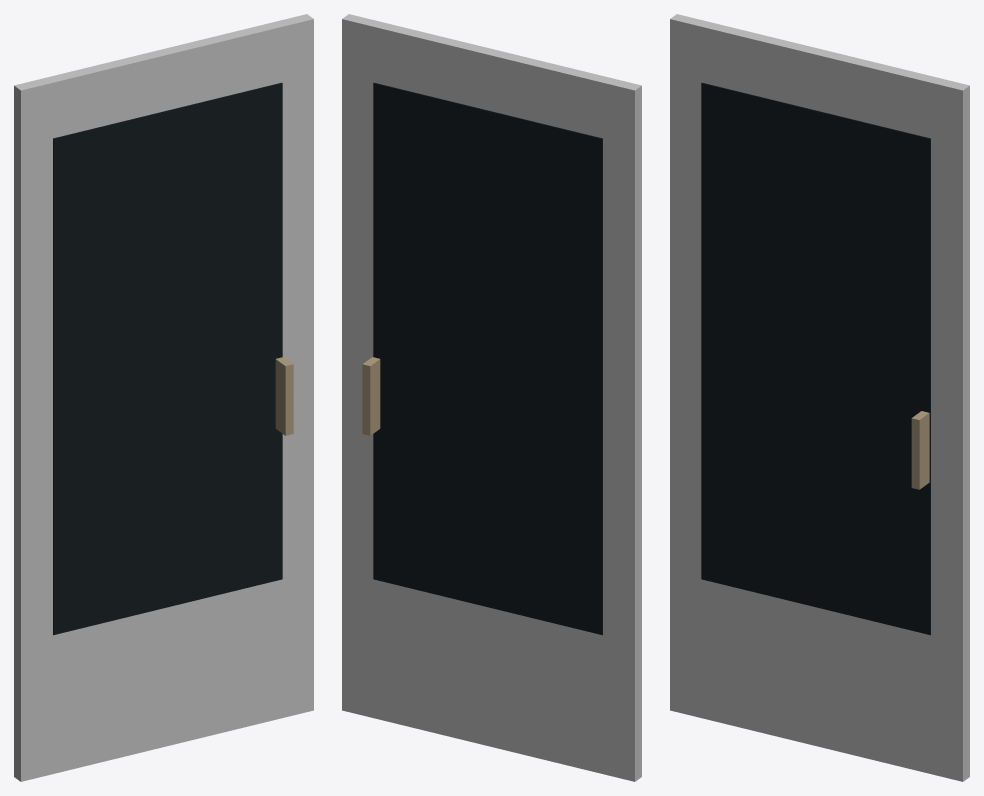
The model's file is OA_DoorLeaf_Double.fbx.
The picture shows the model from 3 angles, left to right: view 1: azimuth 30°, elevation 25°; view 2: azimuth 150°, elevation 25°; view 3: azimuth 330°, elevation 25°; orthographic projection.
Visible parts, largest first — view 1: OA_DoorLeaf_Double; view 2: OA_DoorLeaf_Double; view 3: OA_DoorLeaf_Double.
Part boxes in pixels (x1,y1,x2,y2): OA_DoorLeaf_Double: [14, 14, 313, 781]; OA_DoorLeaf_Double: [342, 14, 641, 781]; OA_DoorLeaf_Double: [670, 14, 969, 781].
Size of the model in its own units: 1.1 by 2.48 by 0.195.
